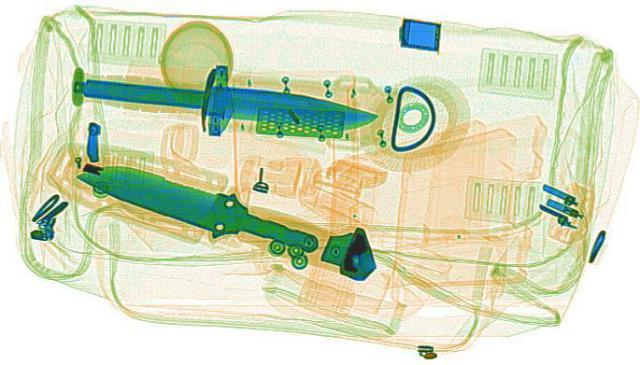Knife: (52, 146, 342, 267), (55, 48, 389, 147)
